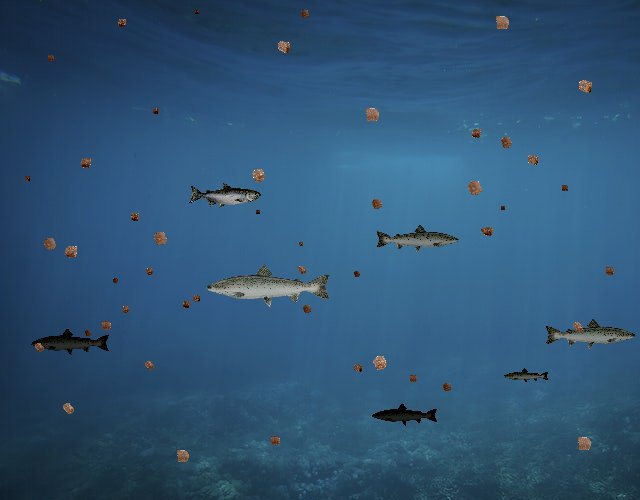Fish: (204, 262, 333, 308), (543, 317, 637, 351), (374, 223, 460, 254), (30, 328, 111, 357), (189, 183, 262, 209), (371, 402, 439, 426), (504, 368, 551, 385)
Pellet: (244, 161, 272, 189), (270, 34, 297, 61), (56, 396, 81, 421), (21, 172, 33, 184)
